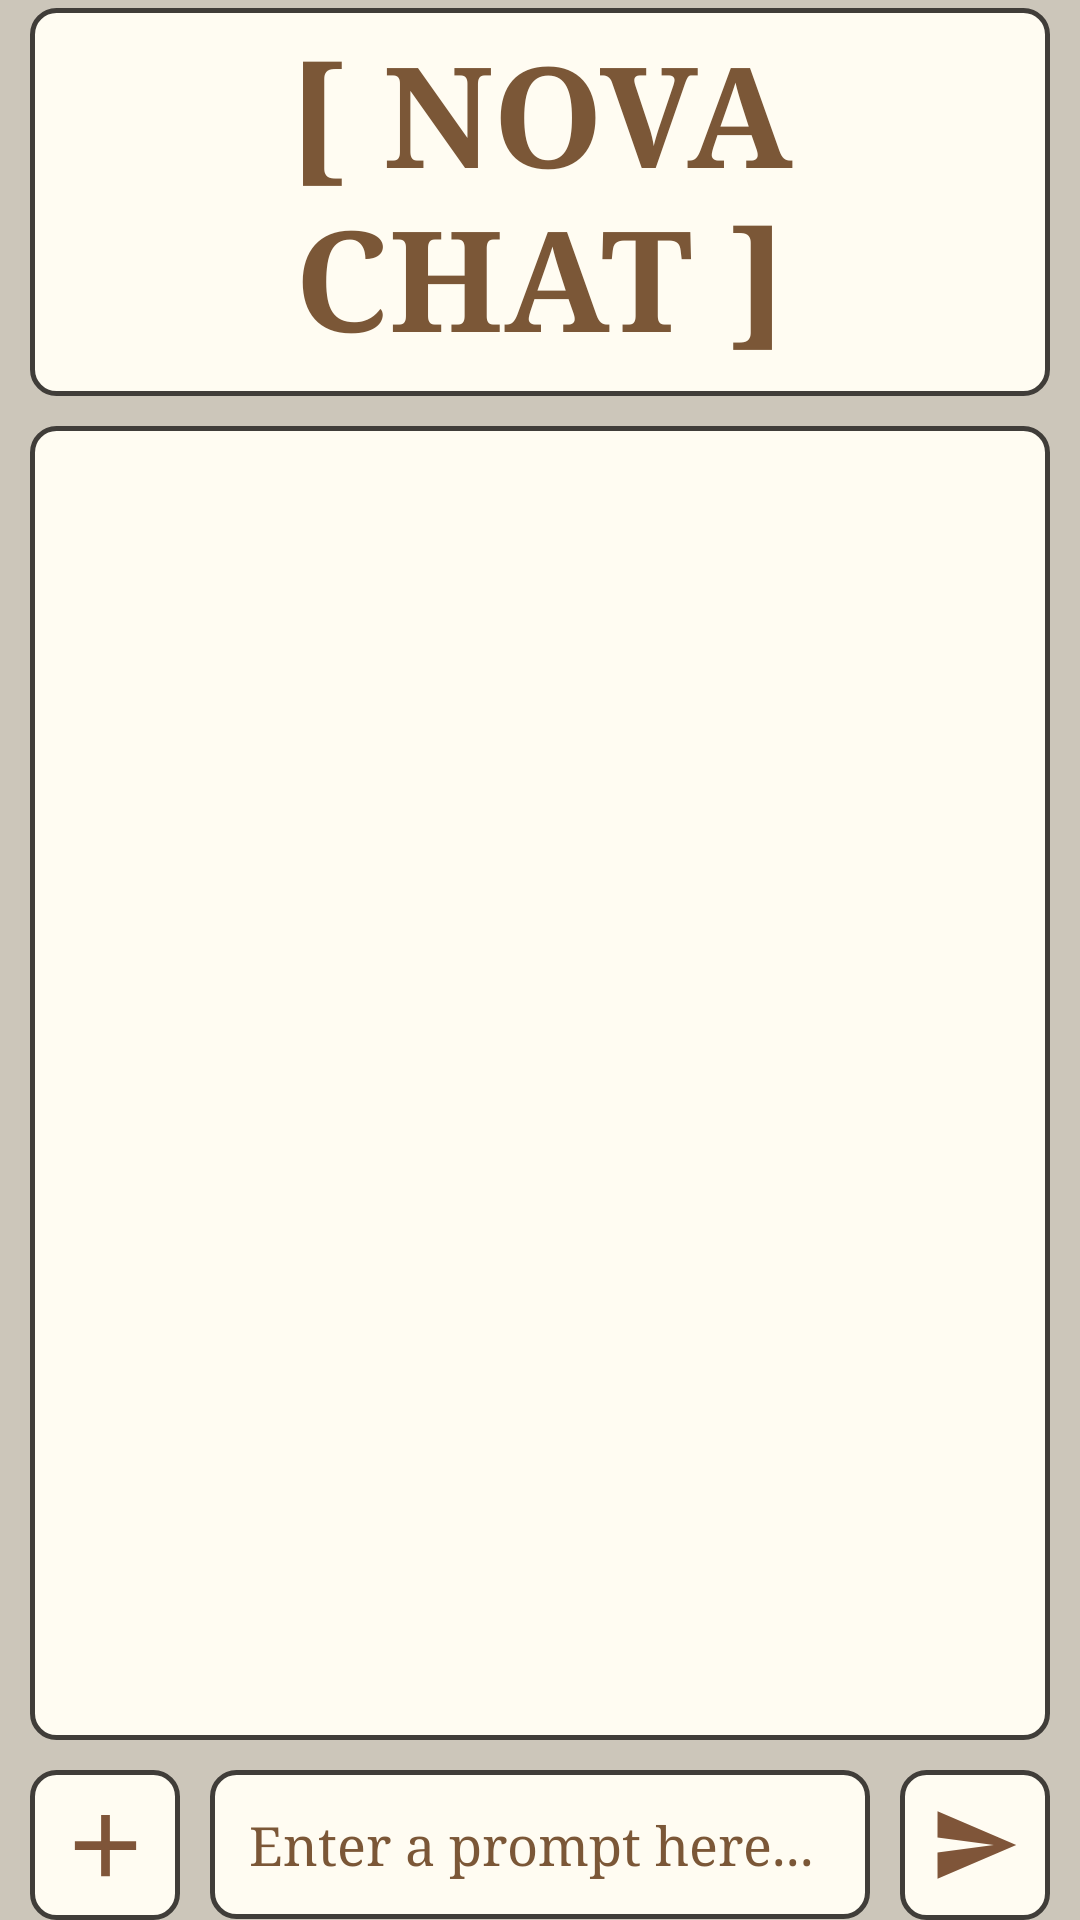

Named icons in this screenshot (1080x1920) and their centers, point (x, y):
add: point (105, 1845)
send: point (975, 1845)
